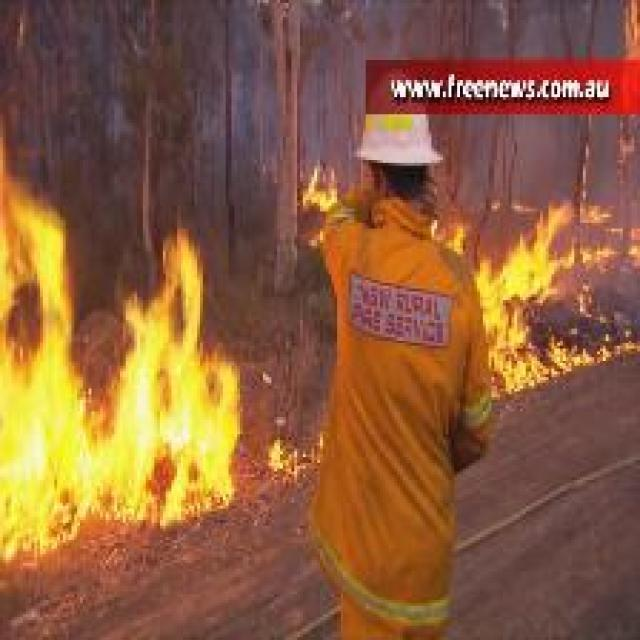Fire: (0, 115, 243, 568), (471, 197, 640, 400), (302, 158, 338, 213)
